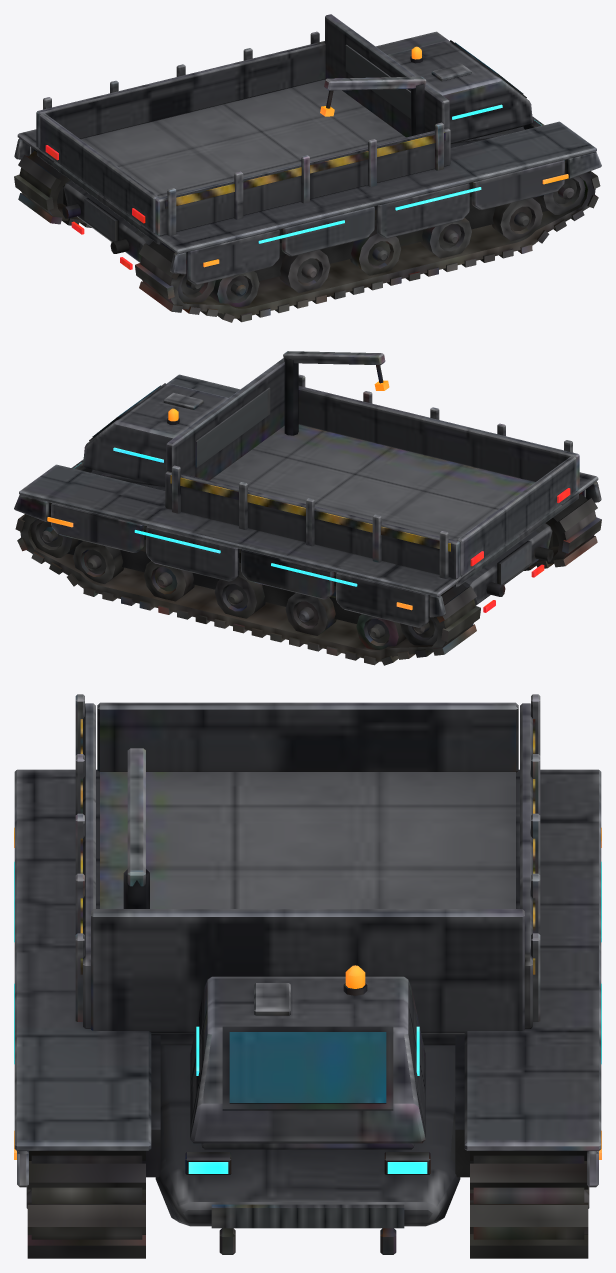
Rendered from hauler.glb.
3 views of the same model, one above another, from view 1: azimuth 30°, elevation 25°; view 2: azimuth 150°, elevation 25°; view 3: azimuth 270°, elevation 25° (orthographic). The views are drawn at different scales.
Parts seen in each view (by area): view 1: Hull; view 2: Hull; view 3: Hull.
Boxes of the visible parts, <box> form: Hull: <box>14,14,601,322</box>; Hull: <box>14,351,601,665</box>; Hull: <box>14,694,601,1258</box>.
Size of the model in its own units: 7.14 by 2.95 by 4.47.
1 material, 1 textured.
